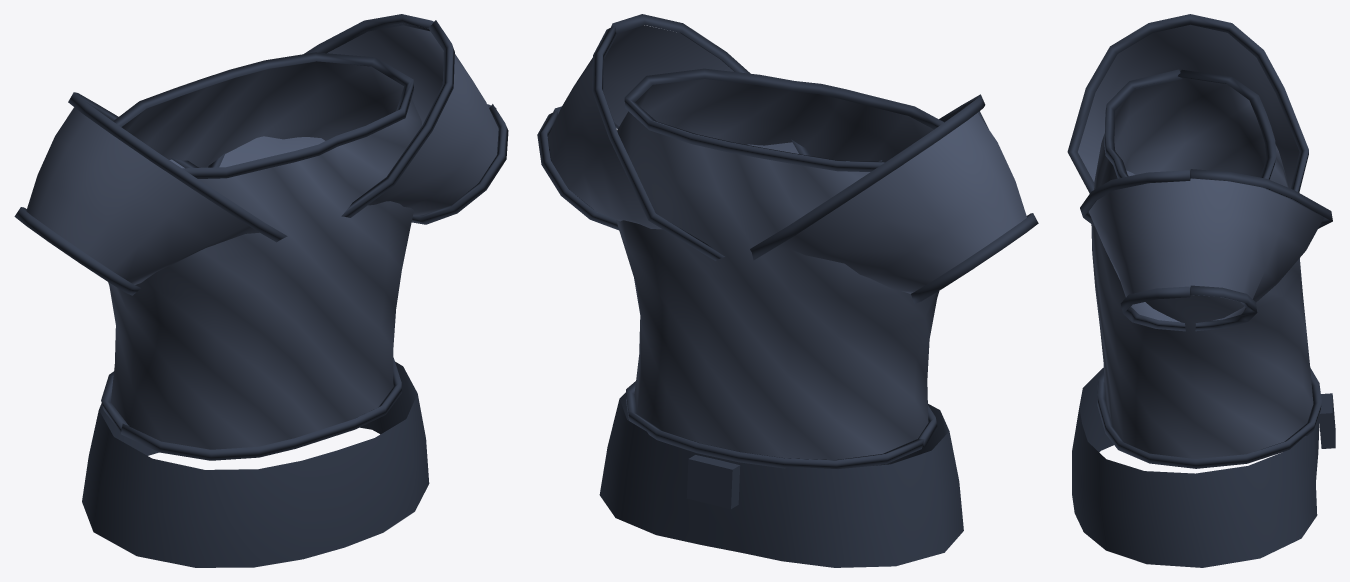
Rendered from lead_chainmail.glb.
3 views of the same model, side by side, from view 1: azimuth 30°, elevation 25°; view 2: azimuth 150°, elevation 25°; view 3: azimuth 270°, elevation 25° (orthographic). The views are drawn at different scales.
Visible parts, largest first — view 1: lead_chainmail_chest; view 2: lead_chainmail_chest; view 3: lead_chainmail_chest.
Boxes of the visible parts, <box> form: lead_chainmail_chest: <box>14,14,508,567</box>; lead_chainmail_chest: <box>537,14,1038,567</box>; lead_chainmail_chest: <box>1067,14,1335,567</box>.
Size of the model in its own units: 0.6477 by 0.5848 by 0.3444.
